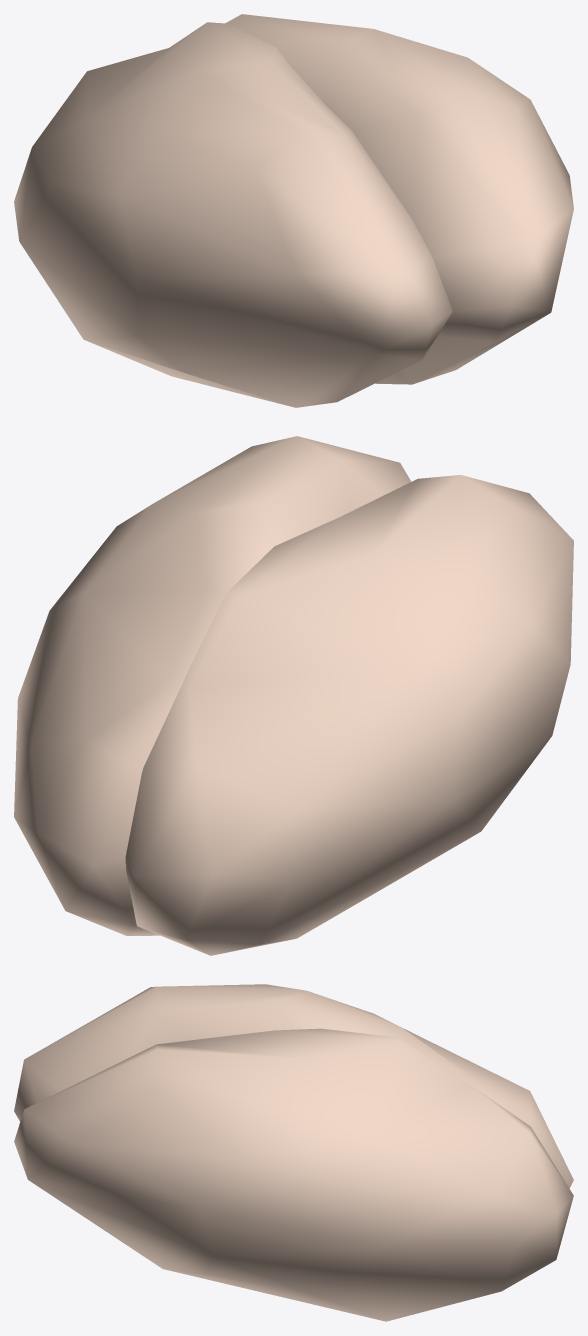
The model's file is endocrine.head.glb.
The picture shows the model from 3 angles, top to bottom: view 1: azimuth 30°, elevation 25°; view 2: azimuth 150°, elevation 25°; view 3: azimuth 270°, elevation 25°; orthographic projection. The views are drawn at different scales.
Parts seen in each view (by area): view 1: pineal_body; view 2: pineal_body; view 3: pineal_body.
Boxes of the visible parts, bbox=[...] form: pineal_body: bbox=[14, 14, 573, 407]; pineal_body: bbox=[14, 436, 573, 955]; pineal_body: bbox=[14, 984, 573, 1321].
Bounding box in the file's own units: 0.00543 × 0.00434 × 0.00775.
